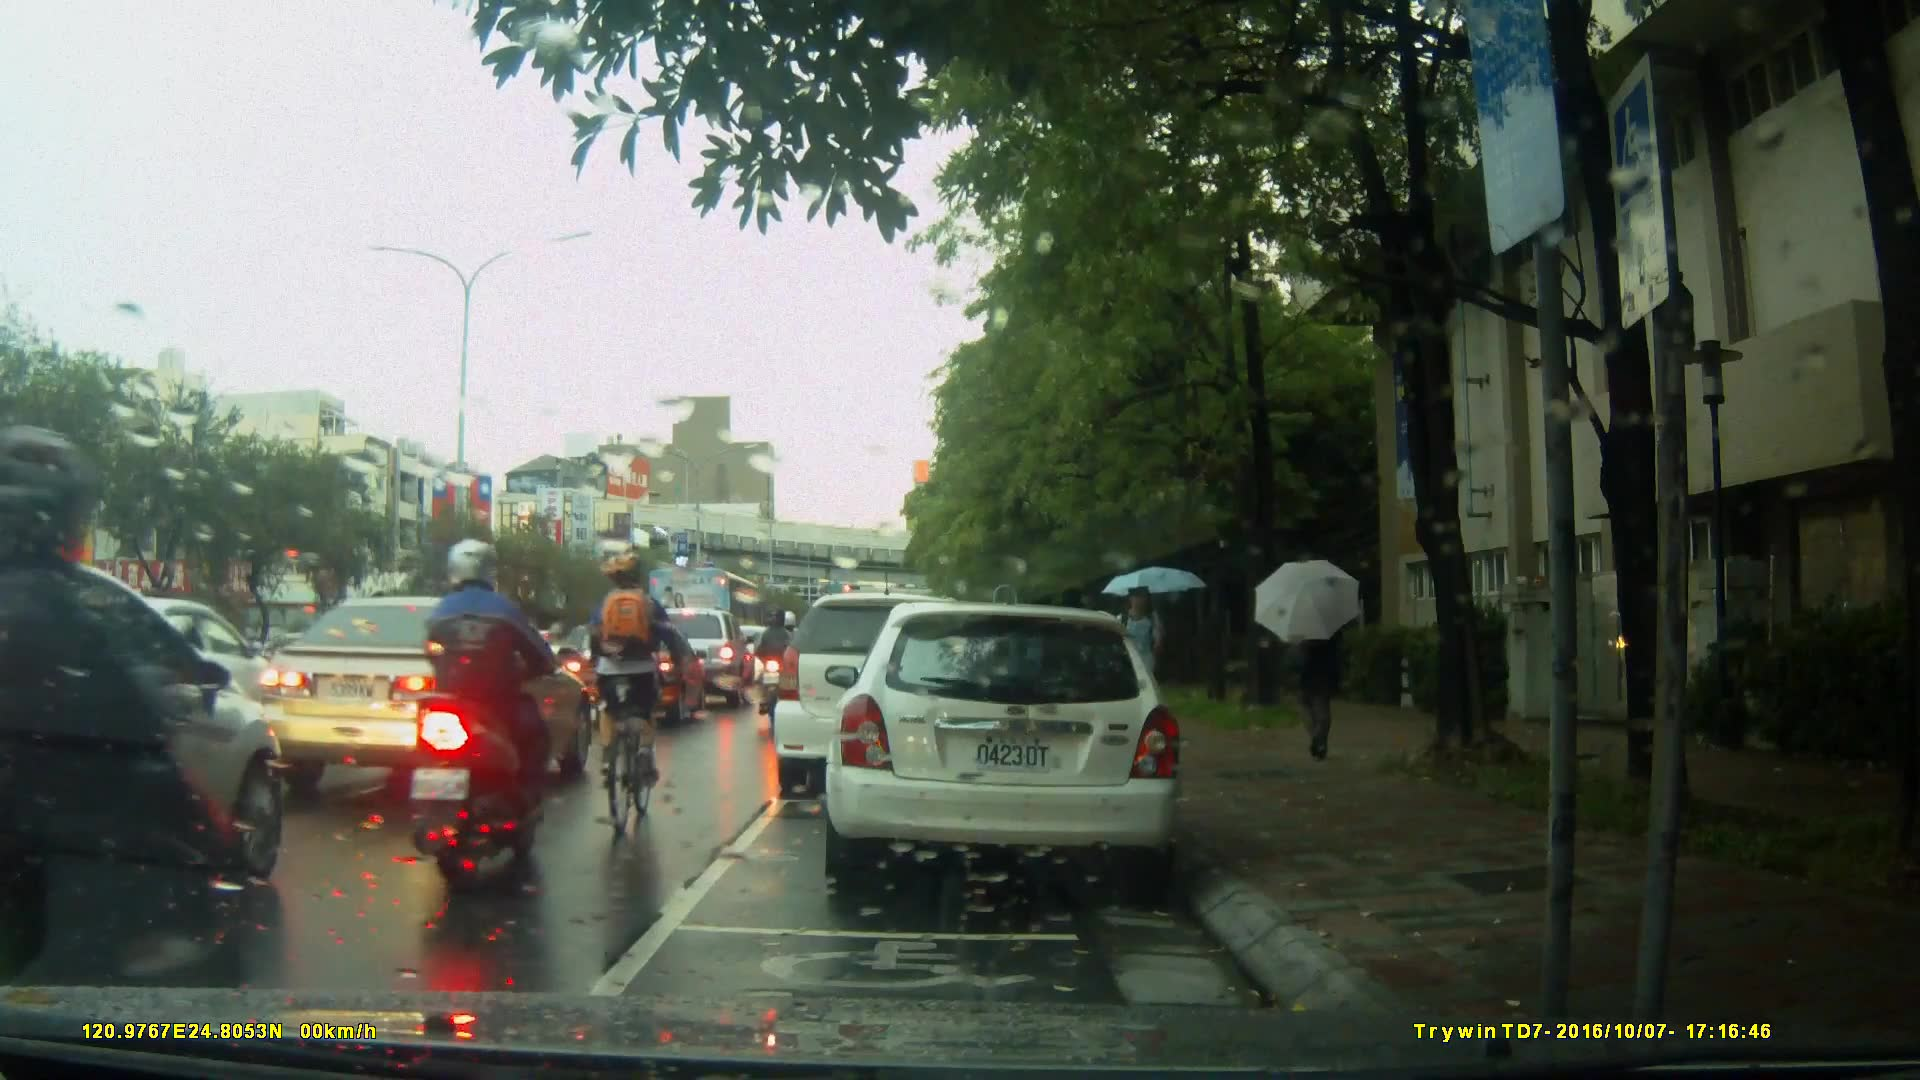pedestrian: (1280, 578, 1343, 763), (1125, 570, 1179, 781)
rider: (1, 432, 276, 1069), (416, 539, 552, 886), (591, 556, 698, 845), (765, 610, 798, 727)
vehicle: (1, 549, 291, 962), (835, 594, 1194, 898), (239, 594, 602, 799), (776, 590, 1026, 784), (556, 619, 710, 727), (650, 564, 766, 673)
